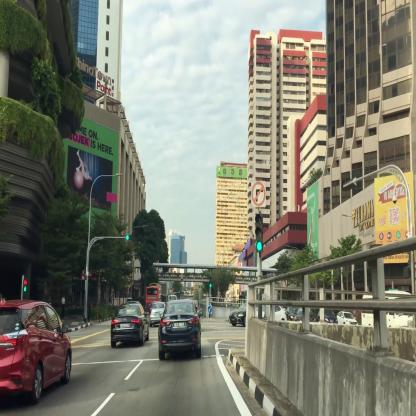green_traffic_light: (255, 214, 262, 251), (126, 235, 134, 240), (210, 275, 212, 287)
